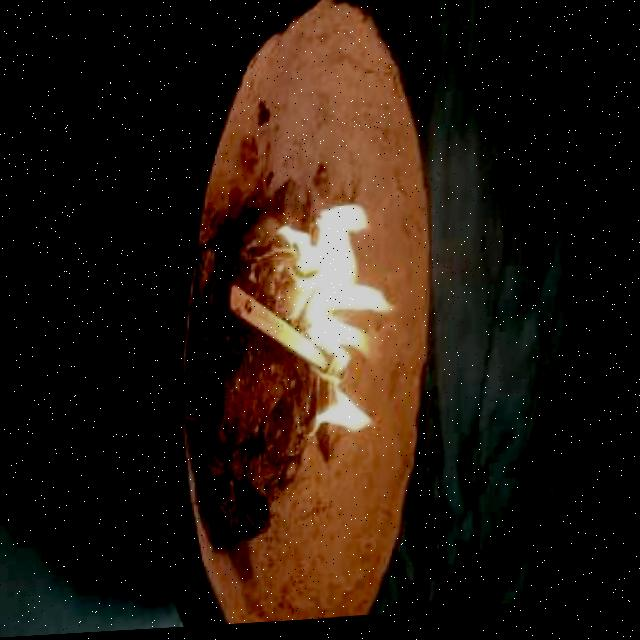Fire: (269, 196, 408, 452)
